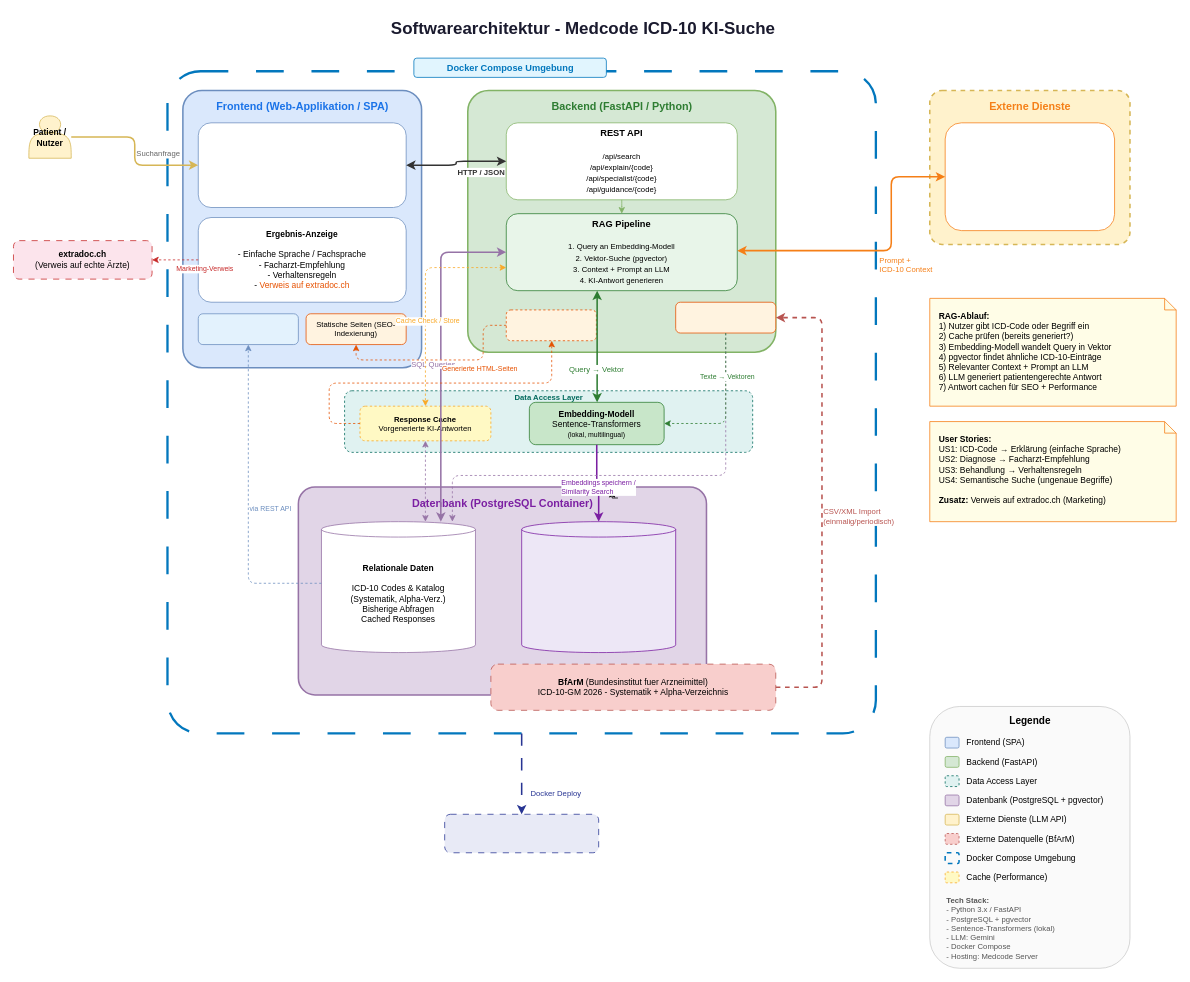
The diagram is 1190 pixels wide and 982 high, and some of its shapes have lost their labels. Each missing label, with the centre of its shape:
"Bisherige Abfragen (Startseite-Liste)" belongs at point 248,329.
"ICD-10 Daten-Import (BfArM Parser)" belongs at point 725,317.
"LLM API Google Gemini Generiert KI-Antworten basierend auf RAG-Context" belongs at point 1029,176.
"Medcode Server (Hosting durch Kunde)" belongs at point 521,833.
"pgvector Embeddings der ICD-10-Begriffe Semantische Suche (Cosine Similarity)" belongs at point 598,587.
"Statische Seiten Generator (SEO)" belongs at point 551,325.
"Suchmaske Eingabefeld für ICD-Code oder med. Begriff" belongs at point 302,165.
